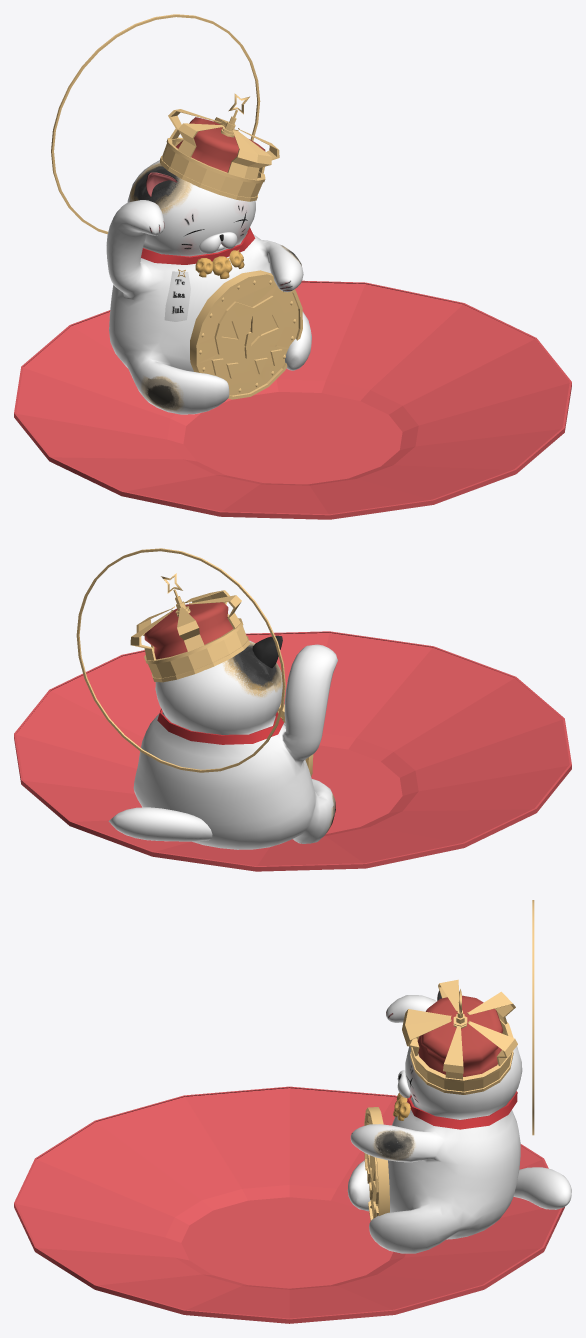
The model's file is goalpost.fbx.
3 views of the same model, one above another, from view 1: azimuth 30°, elevation 25°; view 2: azimuth 150°, elevation 25°; view 3: azimuth 270°, elevation 25° (orthographic). The views are drawn at different scales.
Visible parts, largest first — view 1: Object008; view 2: Object008; view 3: Object008.
Part boxes in pixels (<box>): Object008: <box>14,14,571,519</box>; Object008: <box>14,548,571,871</box>; Object008: <box>14,900,571,1323</box>.
Size of the model in its own units: 395 by 271 by 400.
